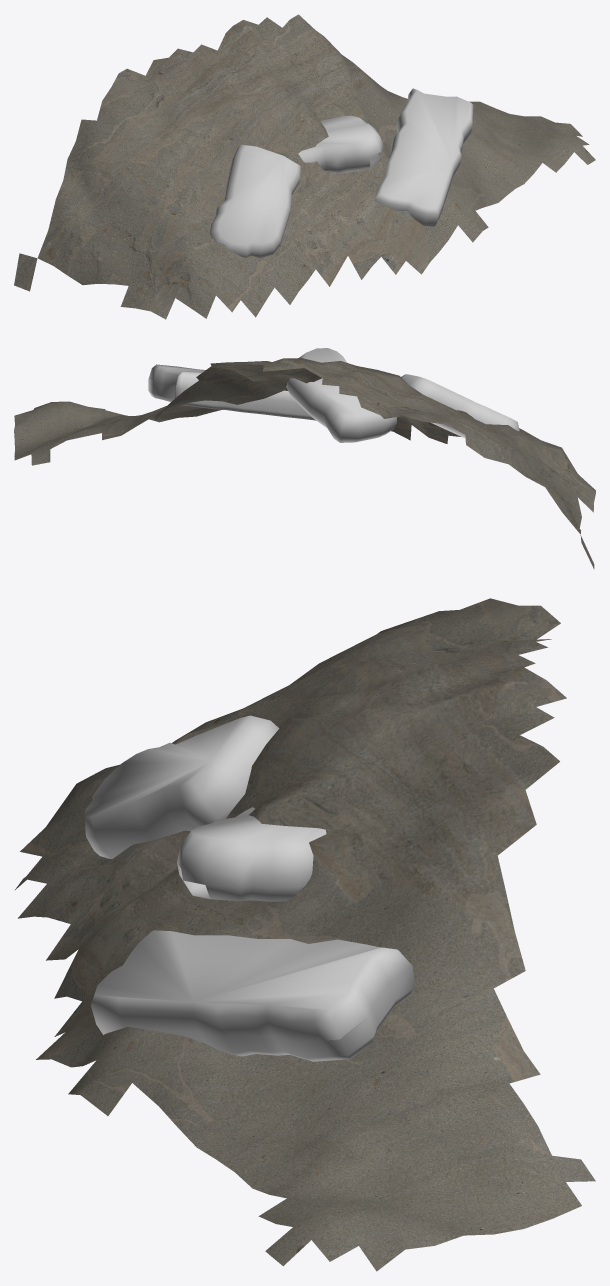
File: SD2_Heap_4.fbx
3 renders of one model, top to bottom at view 1: azimuth 30°, elevation 25°; view 2: azimuth 150°, elevation 25°; view 3: azimuth 270°, elevation 25°, orthographic. The views are drawn at different scales.
Visible parts, largest first — view 1: SD2_heap_4; view 2: SD2_heap_4; view 3: SD2_heap_4.
Boxes of the visible parts, x1,y1,x2,y2 form: SD2_heap_4: (14, 14, 595, 319); SD2_heap_4: (14, 348, 595, 569); SD2_heap_4: (15, 598, 595, 1271).
Size of the model in its own units: 206 by 93.75 by 58.87.
